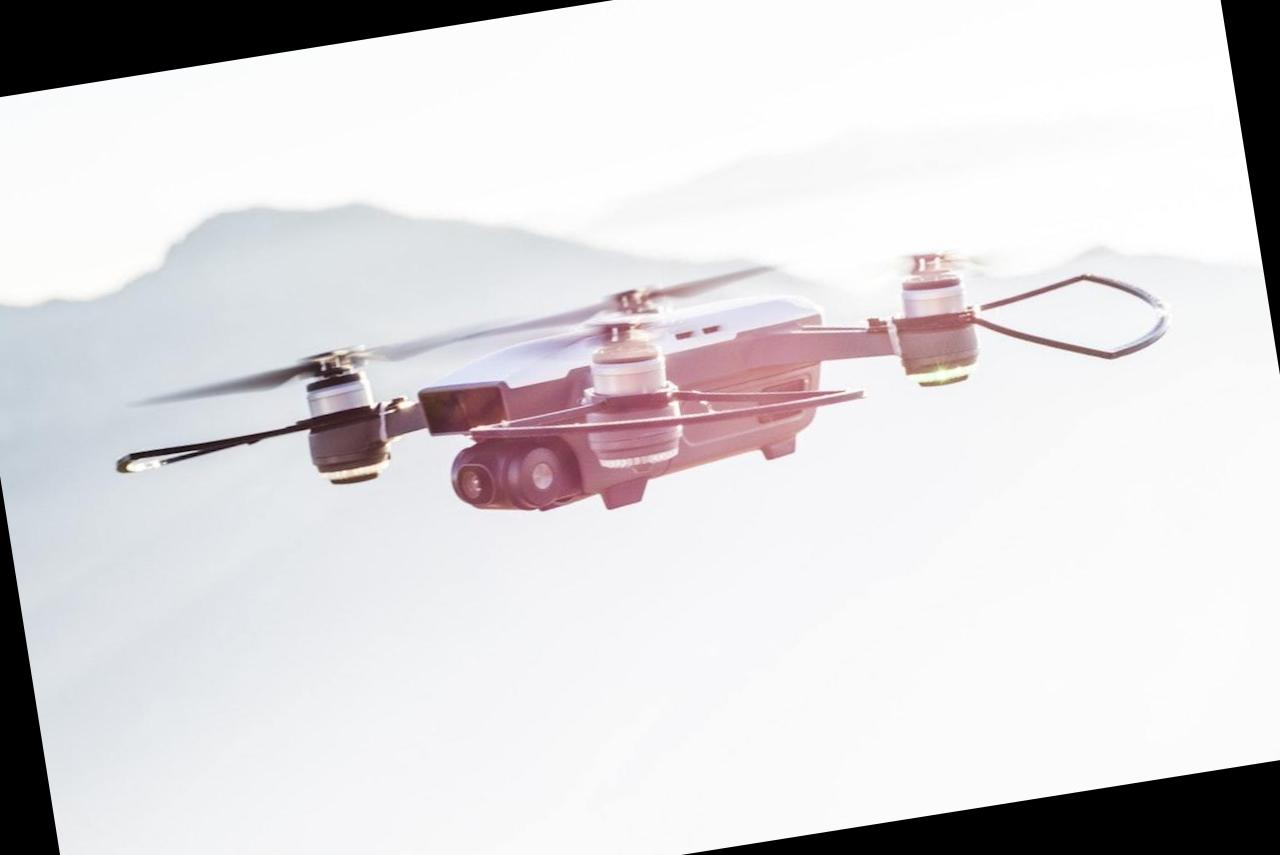drone: (77, 180, 1220, 636)
